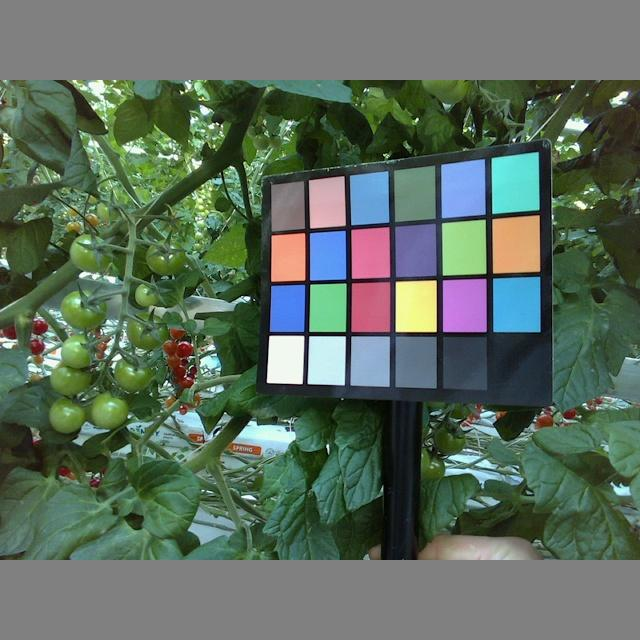green: (59, 291, 107, 330), (69, 231, 110, 274), (125, 312, 168, 350), (48, 360, 94, 395), (111, 355, 152, 393), (144, 239, 186, 275), (91, 391, 130, 429), (48, 398, 86, 433), (59, 337, 97, 368), (132, 281, 161, 307), (93, 197, 121, 222)
